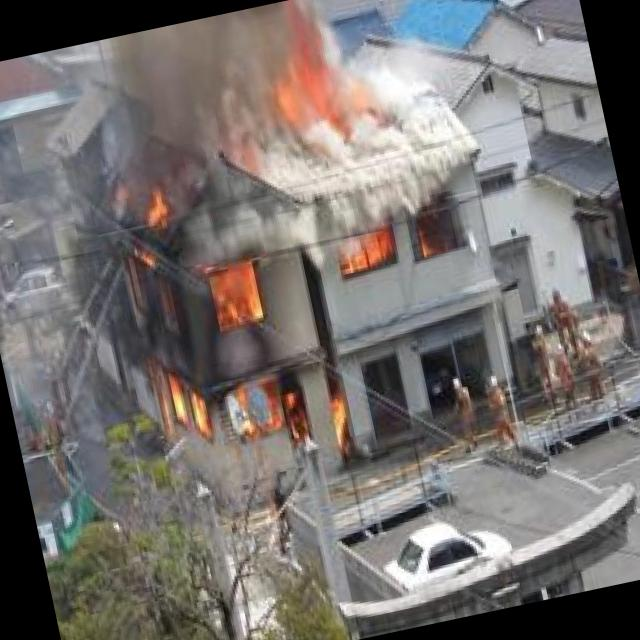Fire: (104, 145, 369, 492), (264, 20, 397, 152), (336, 206, 460, 278)
Smoke: (76, 0, 494, 281)
